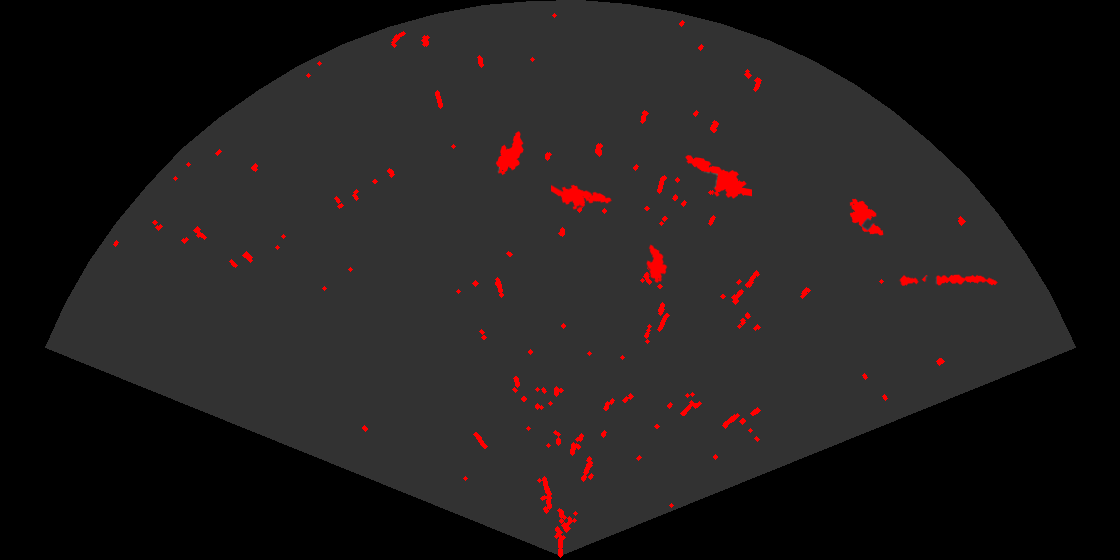AUV: (494, 129, 525, 177), (848, 197, 885, 237), (645, 243, 669, 285)
chain: (898, 273, 999, 287)
frogman: (684, 153, 752, 200), (551, 183, 614, 211)
